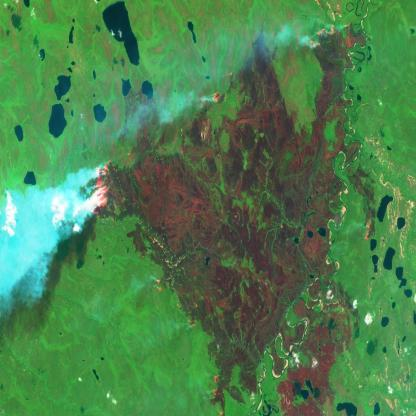fire: (82, 157, 115, 221), (305, 17, 358, 55), (209, 365, 227, 416), (152, 267, 166, 296), (208, 88, 224, 108)
